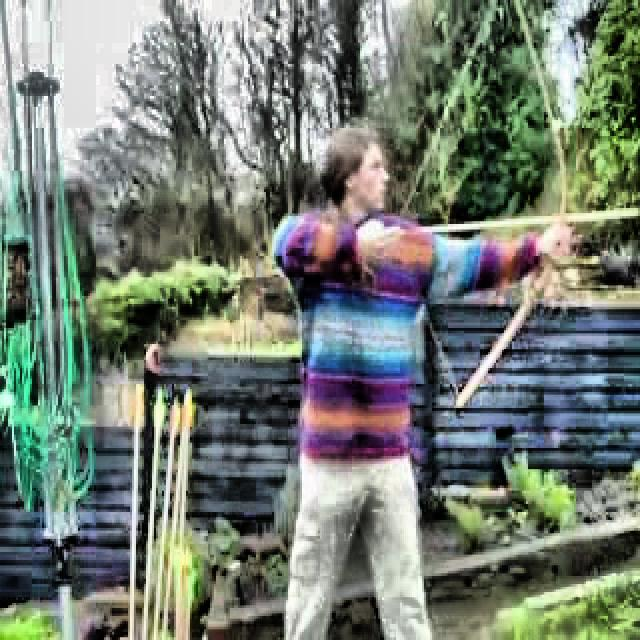I: (269, 127, 566, 631)
